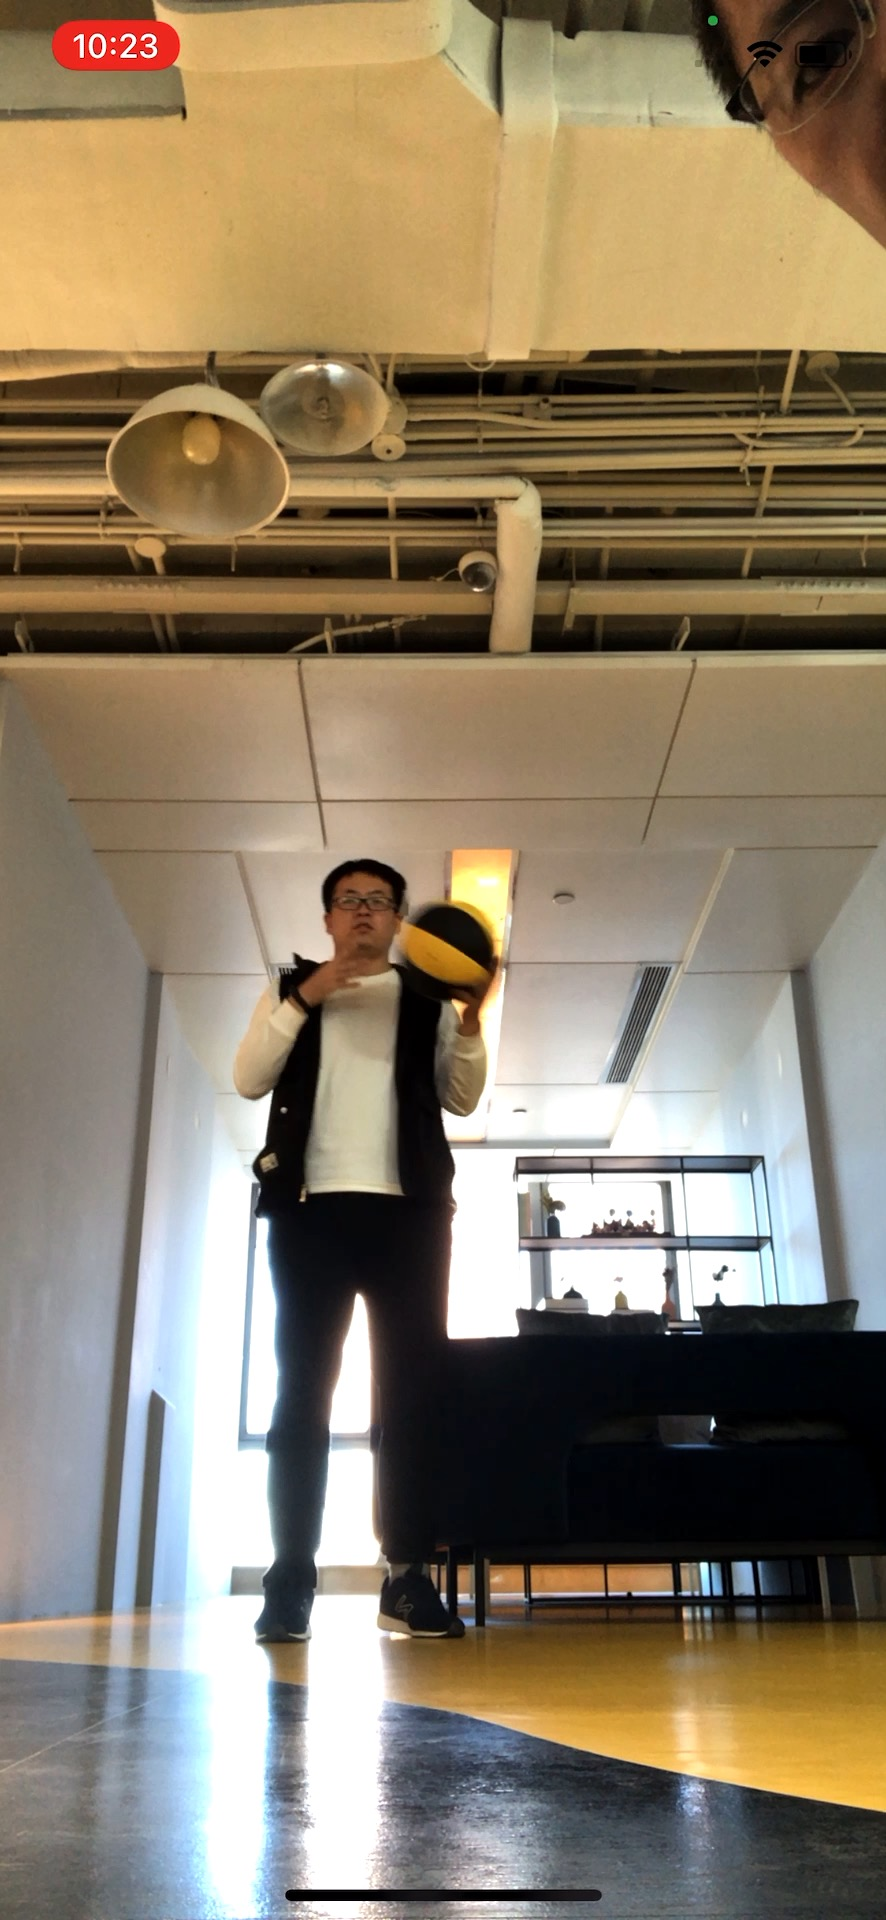ball: (394, 900, 498, 1000)
